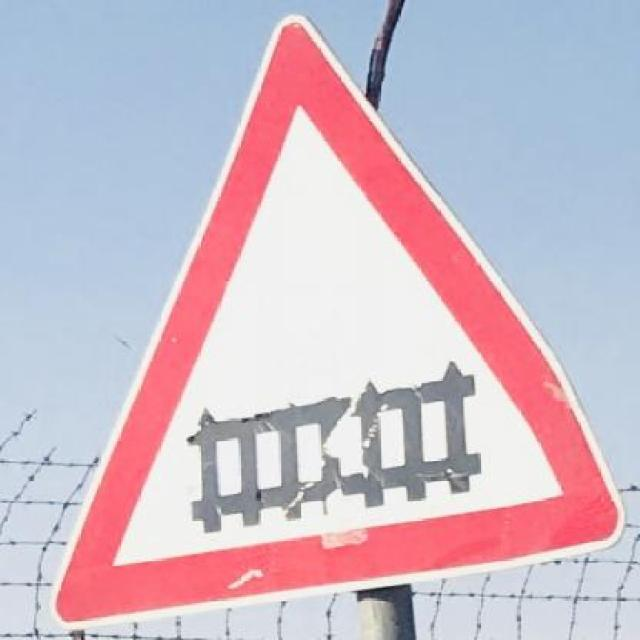guarded level crossing: (58, 28, 595, 621)
